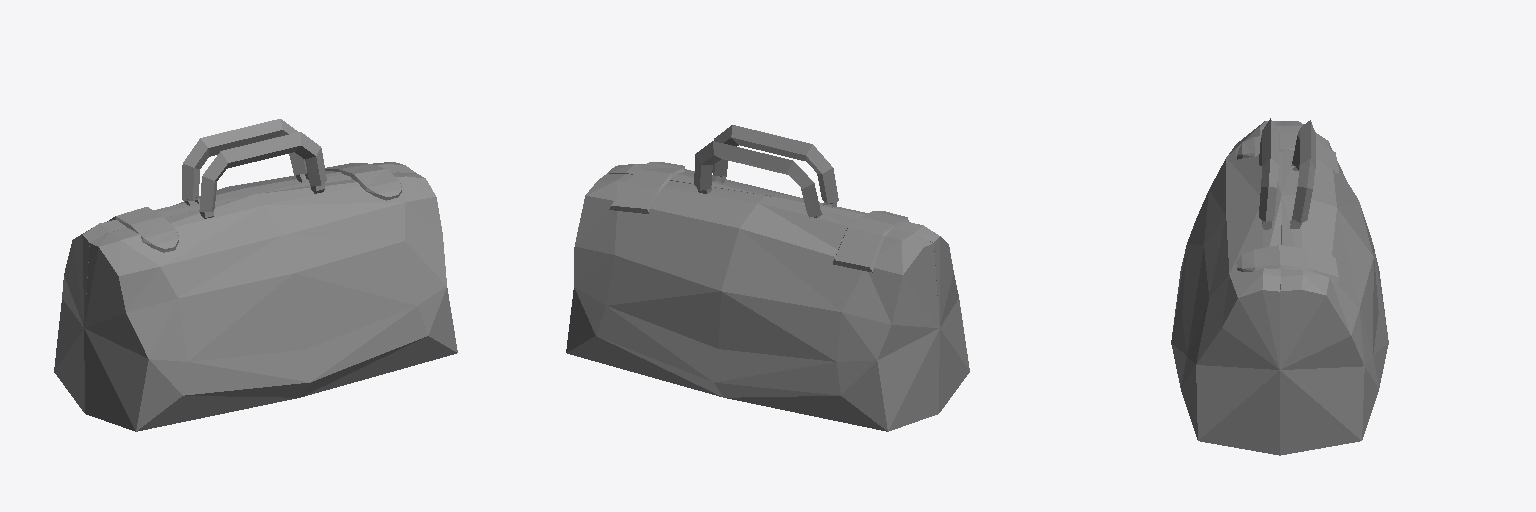
File: health_pack.obj
3 renders of one model, left to right at view 1: azimuth 30°, elevation 25°; view 2: azimuth 150°, elevation 25°; view 3: azimuth 270°, elevation 25°, orthographic.
Parts seen in each view (by area): view 1: health_pack; view 2: health_pack; view 3: health_pack.
Boxes of the visible parts, box(x1,y1,x2,y2) form: health_pack: box(54, 119, 457, 431); health_pack: box(566, 125, 969, 431); health_pack: box(1171, 118, 1388, 455).
Bounding box in the file's own units: 101 × 66.19 × 55.31.